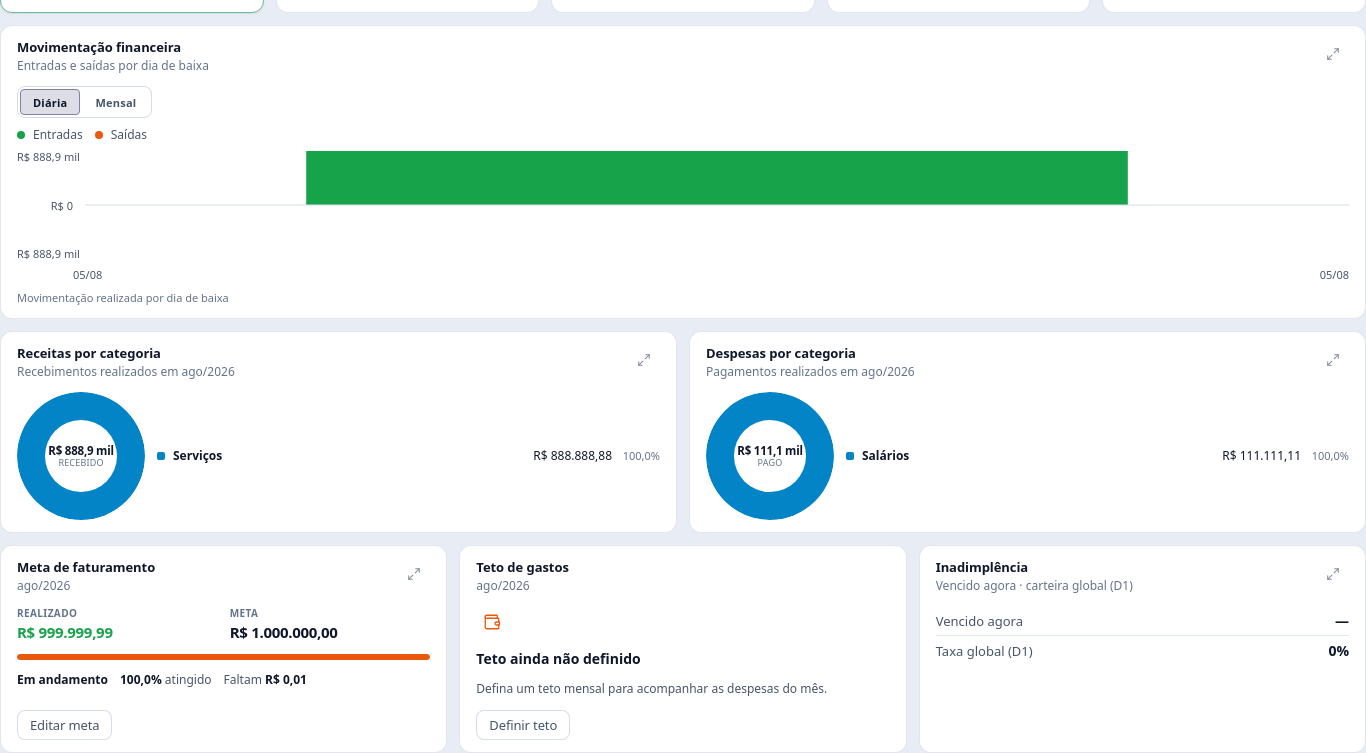
Test: PRE-F13-HOME-POLISH-2 — drill-down e cobertura › P2-5/P2-6/P2-7 — Inadimplência zero com empty state honesto
(page scrolled)
Expected: the button that starts with "Inadimplência" is shown, left=919, top=545, right=1365, bottom=752
Click the 5th button named "Expandir" at (1333, 574), box left=1317, top=558, right=1349, bottom=590
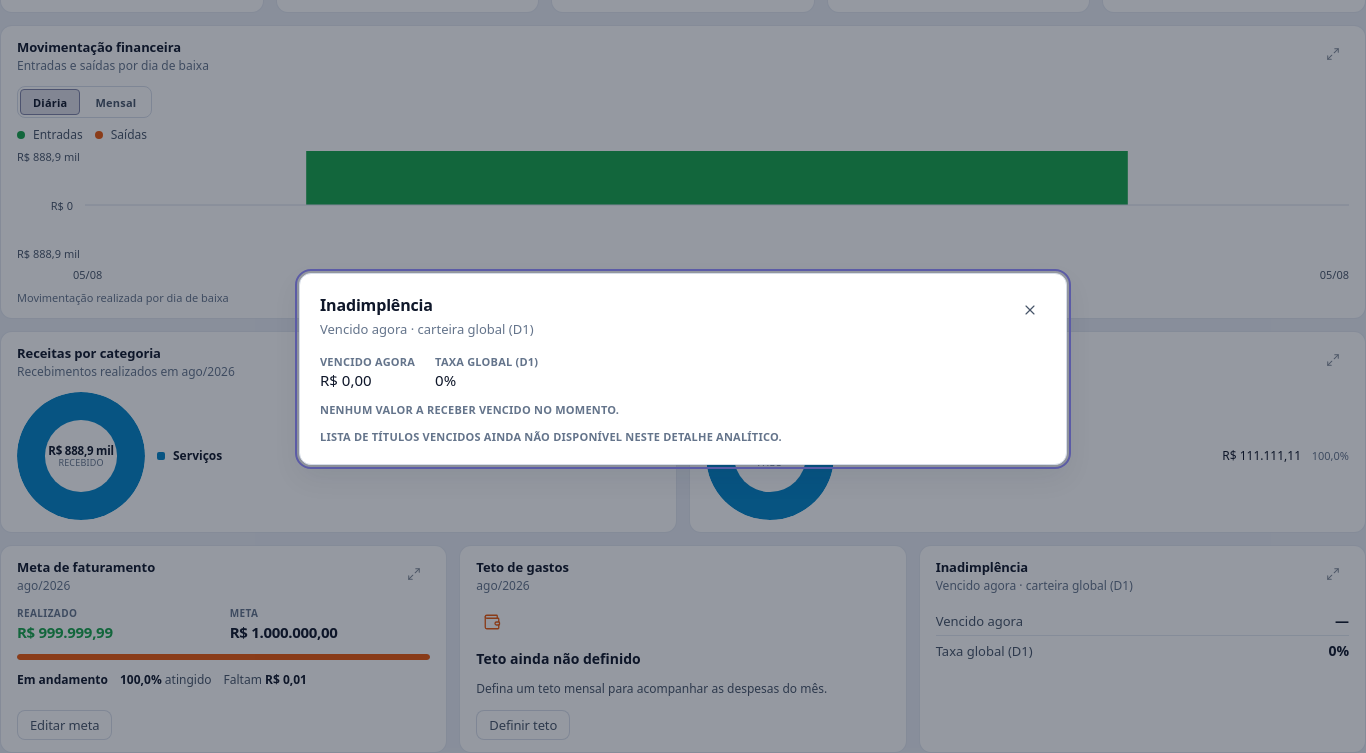
Expected: the heading "Inadimplência" is shown, left=320, top=294, right=433, bottom=316
Expected: the text "Vencido agora" is shown, left=320, top=354, right=415, bottom=369
Expected: the text "R$ 0,00" is shown, left=320, top=370, right=372, bottom=390
